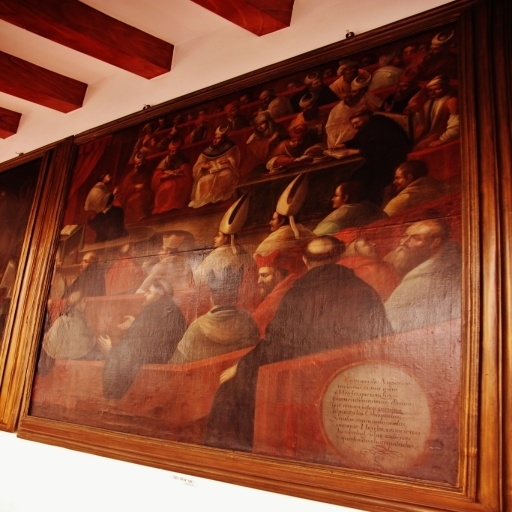hand: (92, 333, 112, 355), (116, 314, 134, 329), (291, 155, 314, 162), (425, 138, 441, 148), (327, 143, 343, 151)
